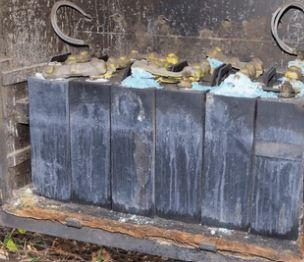battery: (201, 91, 257, 230), (250, 93, 303, 239), (153, 86, 207, 222), (22, 67, 72, 205), (109, 81, 155, 215), (68, 78, 113, 207)
